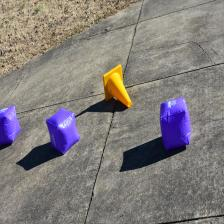cone: (102, 64, 132, 108)
cube: (160, 97, 191, 151), (46, 106, 80, 154), (0, 105, 21, 146)
